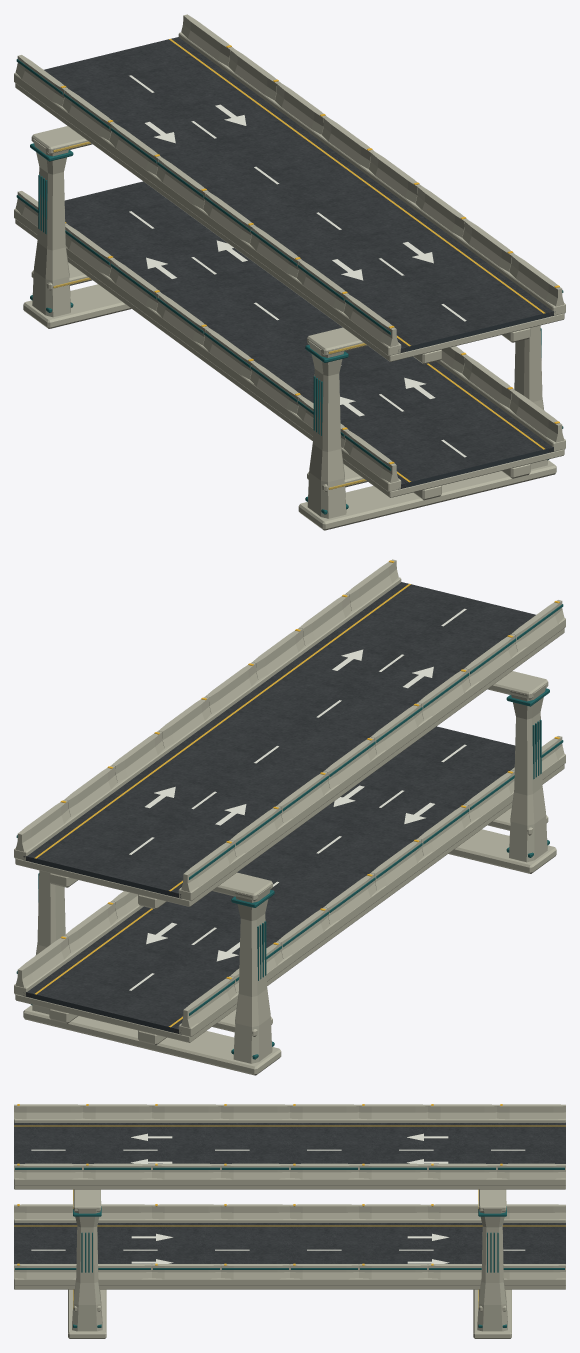
3 renders of one model, top to bottom at view 1: azimuth 30°, elevation 25°; view 2: azimuth 150°, elevation 25°; view 3: azimuth 270°, elevation 25°, orthographic. The views are drawn at different scales.
Visible parts, largest first — view 1: Running course, Splayed barrier segments, Two-storey piers, Barrier plinths, Transverse footings, Spine slabs, Shoulder strips, Inlaid colour ribbons, Haunched portal beams, Directional paint, Edge lines, Box spine girders (+2 smaller); view 2: Running course, Splayed barrier segments, Two-storey piers, Barrier plinths, Transverse footings, Spine slabs, Shoulder strips, Haunched portal beams, Inlaid colour ribbons, Directional paint, Edge lines, Box spine girders (+2 smaller); view 3: Running course, Splayed barrier segments, Barrier plinths, Two-storey piers, Spine slabs, Inlaid colour ribbons, Edge lines, Shoulder strips, Transverse footings, Haunched portal beams, Directional paint, Centre dashes (+2 smaller).
Boxes of the visible parts, bbox=[...] form: Running course: bbox=[44, 38, 548, 487]; Splayed barrier segments: bbox=[15, 14, 564, 482]; Two-storey piers: bbox=[32, 139, 547, 518]; Barrier plinths: bbox=[14, 32, 565, 491]; Transverse footings: bbox=[23, 284, 556, 530]; Spine slabs: bbox=[15, 83, 564, 497]; Shoulder strips: bbox=[174, 37, 556, 489]; Inlaid colour ribbons: bbox=[16, 59, 563, 470]; Haunched portal beams: bbox=[31, 126, 367, 491]; Directional paint: bbox=[145, 104, 435, 416]; Edge lines: bbox=[169, 38, 545, 482]; Box spine girders: bbox=[413, 328, 530, 500]; Running course: bbox=[31, 583, 535, 1032]; Splayed barrier segments: bbox=[15, 559, 564, 1027]; Two-storey piers: bbox=[32, 684, 547, 1063]; Barrier plinths: bbox=[14, 577, 565, 1036]; Transverse footings: bbox=[23, 829, 556, 1075]; Spine slabs: bbox=[15, 628, 564, 1042]; Shoulder strips: bbox=[23, 582, 405, 1034]; Haunched portal beams: bbox=[212, 671, 548, 1036]; Inlaid colour ribbons: bbox=[16, 604, 563, 1015]; Directional paint: bbox=[145, 649, 434, 961]; Edge lines: bbox=[34, 583, 410, 1027]; Box spine girders: bbox=[49, 873, 166, 1045]; Running course: bbox=[14, 1124, 565, 1263]; Splayed barrier segments: bbox=[14, 1104, 565, 1279]; Barrier plinths: bbox=[14, 1118, 565, 1285]; Two-storey piers: bbox=[72, 1201, 507, 1331]; Spine slabs: bbox=[14, 1185, 565, 1289]; Inlaid colour ribbons: bbox=[15, 1167, 564, 1269]; Edge lines: bbox=[14, 1125, 565, 1226]; Shoulder strips: bbox=[14, 1122, 565, 1224]; Transverse footings: bbox=[68, 1289, 511, 1338]; Haunched portal beams: bbox=[73, 1189, 506, 1311]; Directional paint: bbox=[131, 1133, 449, 1263]; Centre dashes: bbox=[31, 1149, 525, 1250].
Size of the model in its own units: 11.54 by 10.42 by 32.
10 materials, 1 textured.
